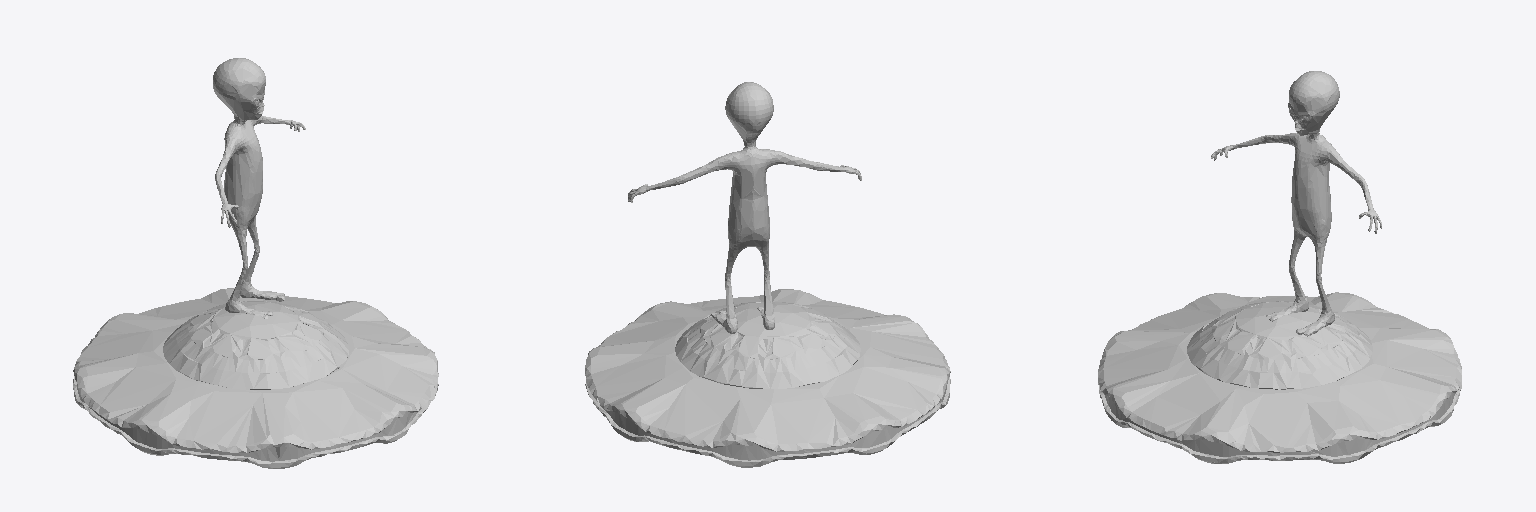
File: frame_003.obj
The picture shows the model from 3 angles: view 1: azimuth 30°, elevation 25°; view 2: azimuth 150°, elevation 25°; view 3: azimuth 270°, elevation 25°; orthographic projection.
Parts seen in each view (by area): view 1: 13884_UFO_Saucer_v1_l2, 10469_GrayAlien_v01; view 2: 13884_UFO_Saucer_v1_l2, 10469_GrayAlien_v01; view 3: 13884_UFO_Saucer_v1_l2, 10469_GrayAlien_v01.
Boxes of the visible parts, <box> form: 13884_UFO_Saucer_v1_l2: <box>73,288,438,468</box>; 10469_GrayAlien_v01: <box>213,58,305,318</box>; 13884_UFO_Saucer_v1_l2: <box>585,289,950,467</box>; 10469_GrayAlien_v01: <box>628,82,861,333</box>; 13884_UFO_Saucer_v1_l2: <box>1098,292,1461,463</box>; 10469_GrayAlien_v01: <box>1211,71,1381,336</box>.
Size of the model in its own units: 12.69 by 14.1 by 12.7.